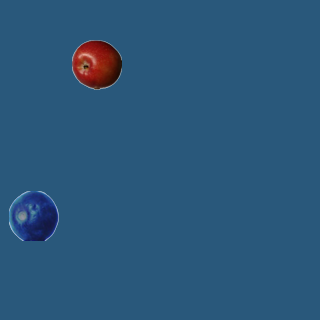Apple Braeburn: (71, 39, 121, 89)
Huckleberry: (8, 190, 58, 240)
